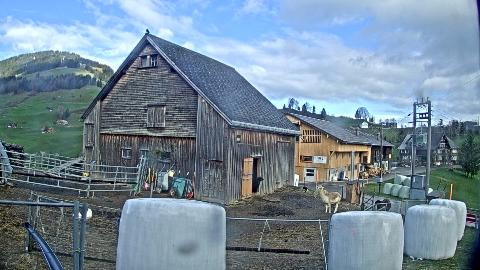sheep: (317, 185, 341, 213), (375, 199, 391, 212), (252, 177, 264, 193), (312, 190, 328, 199)
